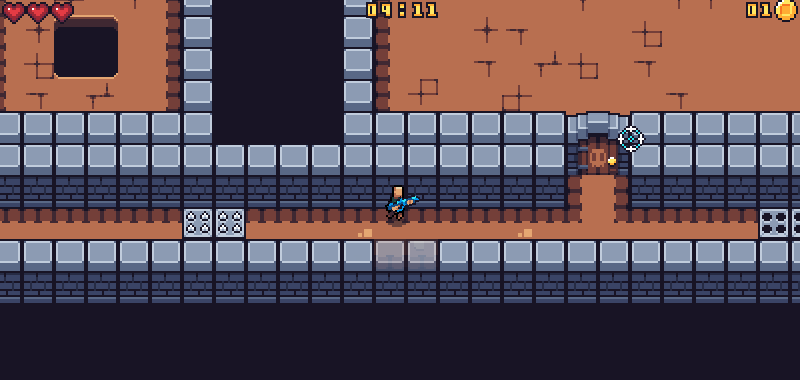door: (564, 108, 632, 174)
trap_off: (181, 205, 244, 240), (758, 204, 800, 240)
